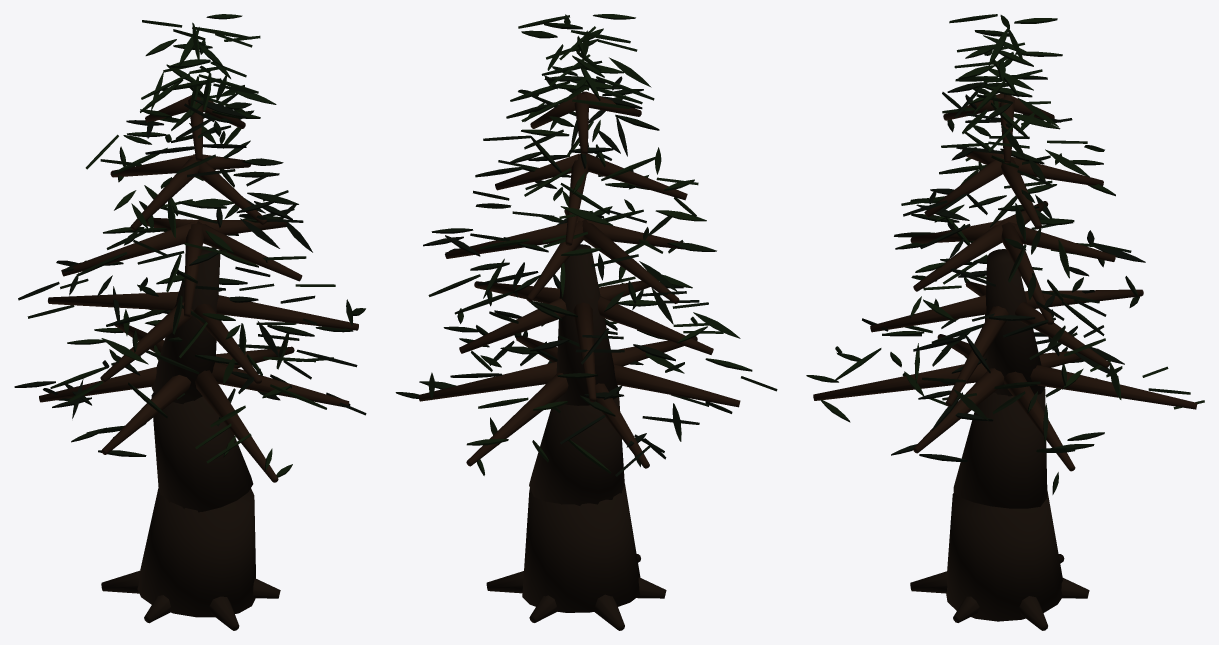
Rendered from NaturePineA.obj.
The picture shows the model from 3 angles, left to right: view 1: azimuth 30°, elevation 25°; view 2: azimuth 150°, elevation 25°; view 3: azimuth 270°, elevation 25°; orthographic projection.
Parts seen in each view (by area): view 1: weathered_trunk_0, weathered_trunk_1, weathered_trunk_2, pine_bough.009, pine_bough.003, pine_bough.006, pine_bough.011, pine_bough.002, pine_bough.004, pine_bough.001, pine_bough.013, pine_bough.007 (+9 smaller); view 2: weathered_trunk_0, weathered_trunk_1, weathered_trunk_2, pine_bough.005, pine_bough.002, pine_bough, pine_bough.007, pine_bough.011, pine_bough.010, pine_bough.006, pine_bough.014, pine_bough.016 (+10 smaller); view 3: weathered_trunk_0, weathered_trunk_1, weathered_trunk_2, pine_bough, pine_bough.003, pine_bough.008, pine_bough.004, pine_bough.013, pine_bough.009, pine_bough.005, pine_bough.010, pine_bough.014 (+8 smaller).
Part boxes in pixels (x1,y1,x2,y2): weathered_trunk_0: (137, 487, 255, 617); weathered_trunk_1: (151, 392, 253, 512); weathered_trunk_2: (151, 246, 220, 403); pine_bough.009: (216, 295, 358, 330); pine_bough.003: (195, 370, 278, 482); pine_bough.006: (48, 291, 178, 310); pine_bough.011: (61, 221, 195, 276); pine_bough.002: (101, 375, 190, 454); pine_bough.004: (212, 362, 349, 407); pine_bough.001: (39, 367, 156, 402); pine_bough.013: (196, 221, 302, 281); pine_bough.007: (100, 302, 192, 382); weathered_trunk_0: (522, 483, 640, 612); weathered_trunk_1: (529, 397, 624, 505); weathered_trunk_2: (556, 244, 618, 405); pine_bough.005: (418, 361, 556, 401); pine_bough.002: (613, 364, 740, 407); pine_bough: (466, 372, 568, 466); pine_bough.007: (598, 296, 713, 354); pine_bough.011: (582, 220, 679, 303); pine_bough.010: (459, 298, 566, 353); pine_bough.006: (573, 302, 596, 402); pine_bough.014: (445, 219, 579, 258); pine_bough.016: (585, 153, 687, 200); weathered_trunk_0: (946, 491, 1062, 621); weathered_trunk_1: (953, 389, 1047, 508); weathered_trunk_2: (983, 249, 1045, 396); pine_bough: (1030, 365, 1197, 409); pine_bough.003: (813, 363, 987, 400); pine_bough.008: (870, 295, 986, 332); pine_bough.004: (913, 368, 1004, 453); pine_bough.013: (913, 221, 1005, 291); pine_bough.009: (945, 306, 1008, 406); pine_bough.005: (1004, 371, 1075, 471); pine_bough.010: (1015, 302, 1109, 368); pine_bough.014: (1001, 222, 1053, 325).
Size of the model in its own units: 1.51 by 2.6 by 1.62.
